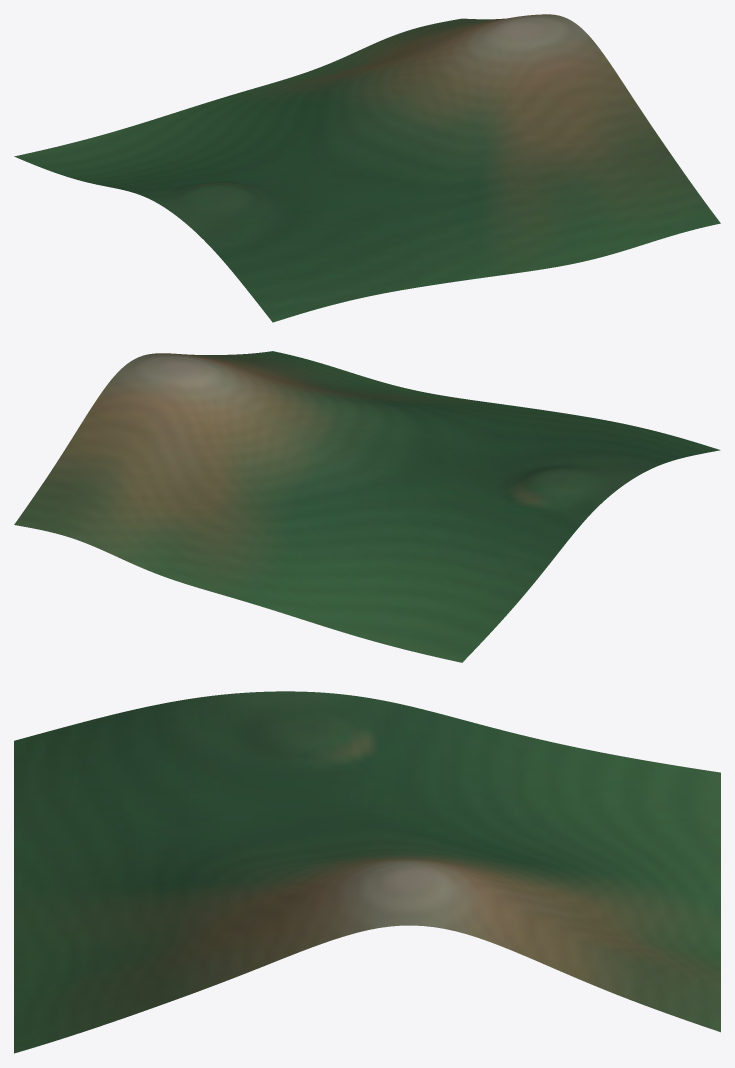
The model's file is terrain_T_E00_N06.glb.
The picture shows the model from 3 angles, top to bottom: view 1: azimuth 30°, elevation 25°; view 2: azimuth 150°, elevation 25°; view 3: azimuth 270°, elevation 25°; orthographic projection. The views are drawn at different scales.
Visible parts, largest first — view 1: Terrain_T_E00_N06; view 2: Terrain_T_E00_N06; view 3: Terrain_T_E00_N06.
Part boxes in pixels (x1,y1,x2,y2): Terrain_T_E00_N06: (14,14,720,322); Terrain_T_E00_N06: (14,351,720,662); Terrain_T_E00_N06: (14,691,720,1053).
Size of the model in its own units: 2000 by 494 by 2000.
Materials: 1 (1 with a texture image).
